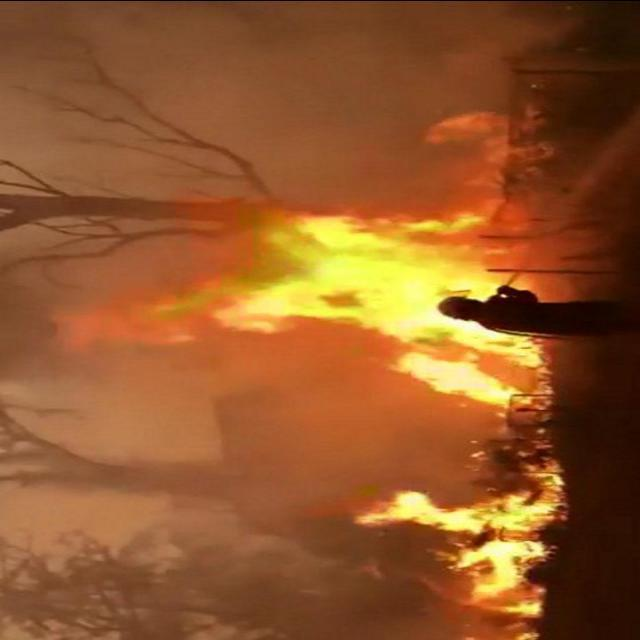Fire: (48, 194, 554, 412), (352, 468, 566, 617), (412, 109, 512, 190)
